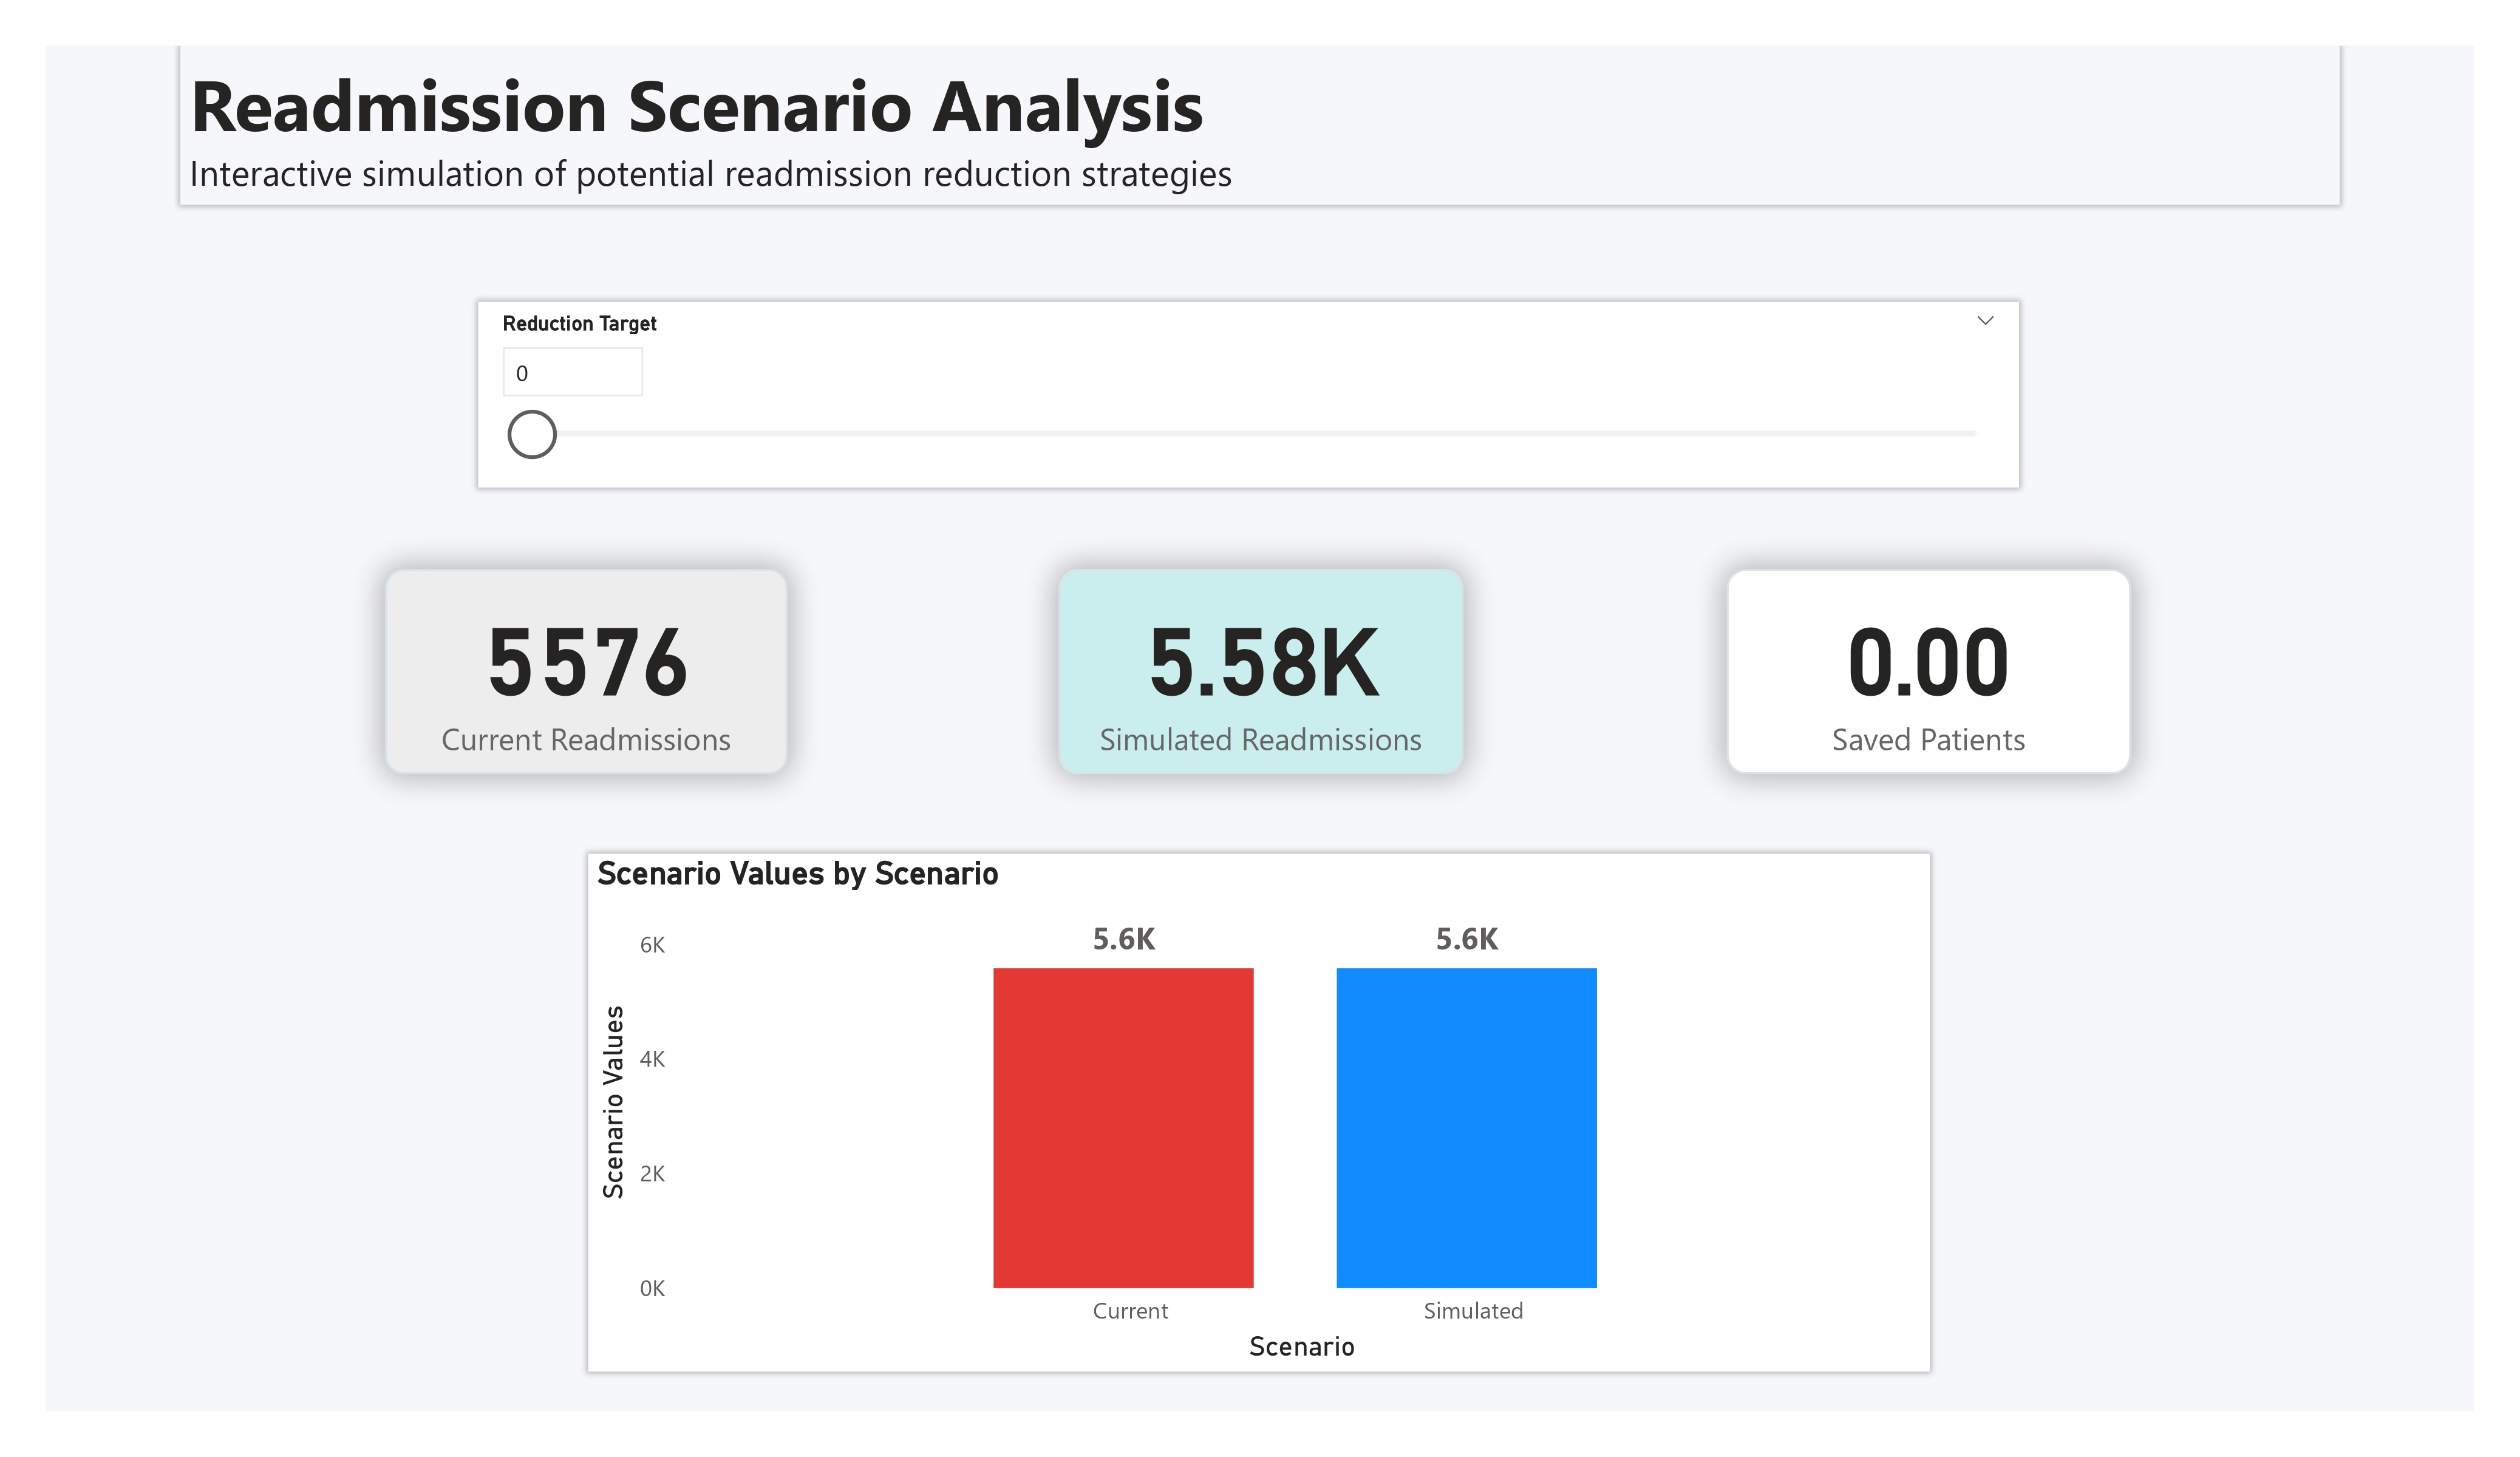

Layout of this report page (visuals, bound fields, positions):
{"tool":"powerbi","page":{"name":"📈Scenario Analysis","canvas":[1280,720],"ordinal":3},"visuals":[{"type":"slicer","fields":{"Values":["Reduction Target.Reduction Target"]},"box":[228.3,135,811.7,98.3],"z":0},{"type":"clusteredColumnChart","fields":{"Category":["Scenario Comparison.Scenario"],"Y":["Scenario Comparison.Scenario Values"]},"box":[285.7,425.7,707.1,272.9],"z":1000},{"type":"card","fields":{"Values":["Reduction Target.Current Readmissions"]},"box":[178.6,275.7,212.9,108.6],"z":2000},{"type":"card","fields":{"Values":["Reduction Target.Simulated Readmissions"]},"box":[534.3,275.7,212.9,108.6],"z":3000},{"type":"card","fields":{"Values":["Reduction Target.Saved Patients"]},"box":[885.7,275.7,212.9,108.6],"z":4000},{"type":"textbox","box":[70.7,0,1138.6,84.3],"z":5000}]}

Visuals, with their boxes on the page's 1280x720 design canvas (x1, y1, x2, y2). These are canvas units, not pixel positions in the 2520x1457 screenshot, which may show the page scaled, cropped or inside an application window:
slicer - Reduction Target.Reduction Target: [left=228, top=135, right=1040, bottom=233]
clusteredColumnChart - Scenario Comparison.Scenario x Scenario Comparison.Scenario Values: [left=286, top=426, right=993, bottom=699]
card - Reduction Target.Current Readmissions: [left=179, top=276, right=392, bottom=384]
card - Reduction Target.Simulated Readmissions: [left=534, top=276, right=747, bottom=384]
card - Reduction Target.Saved Patients: [left=886, top=276, right=1099, bottom=384]
textbox: [left=71, top=0, right=1209, bottom=84]
